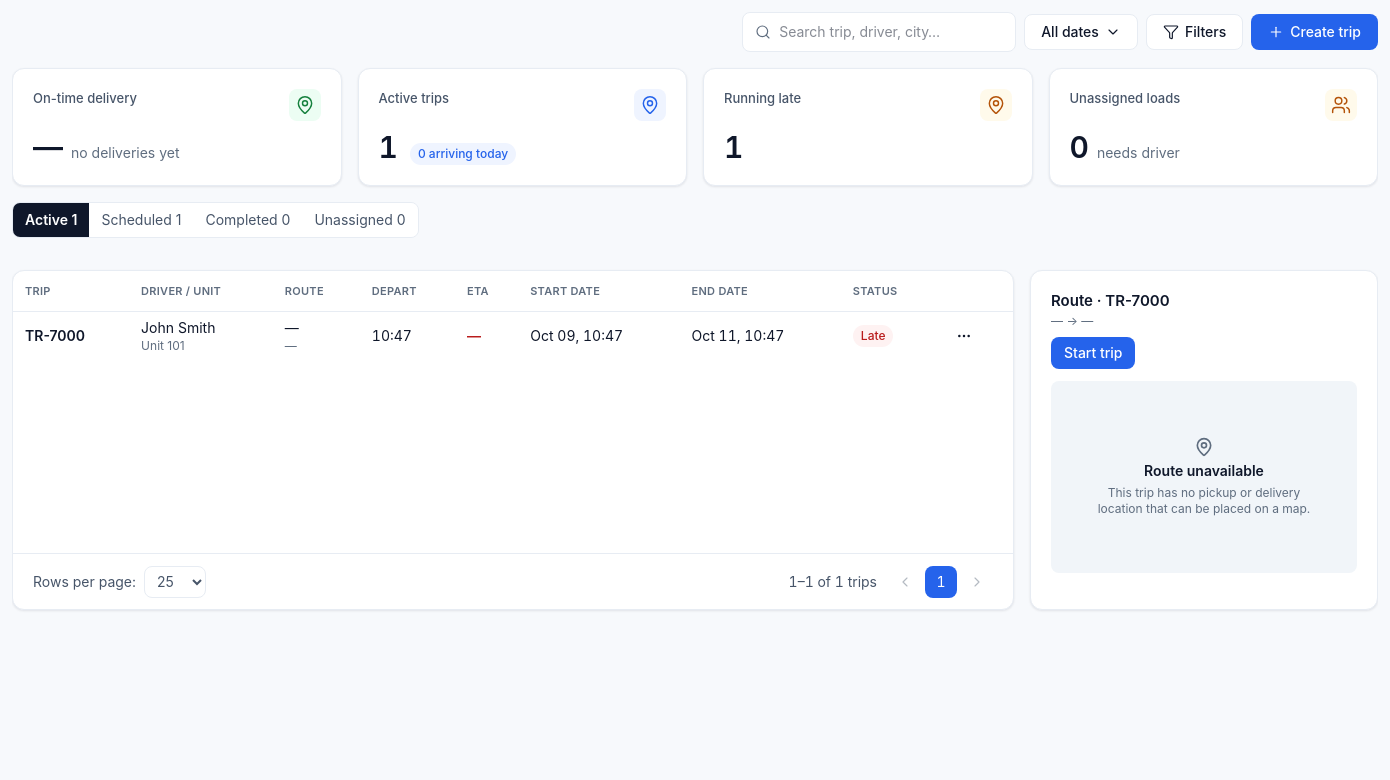
Test: W-11 Dispatch & Trips › LIVE-003: an active trip past its planned end is Late; a planned trip past its start is flagged Overdue (status kept)
The width and height of the screenshot is (1390, 780).
Check: the text "TR-7000" is shown, box [25,326,85,344]
Check: the text "Late" is shown, box [853,324,894,346]
Click the button "Scheduled 1": click(141, 220) [89,203,193,237]
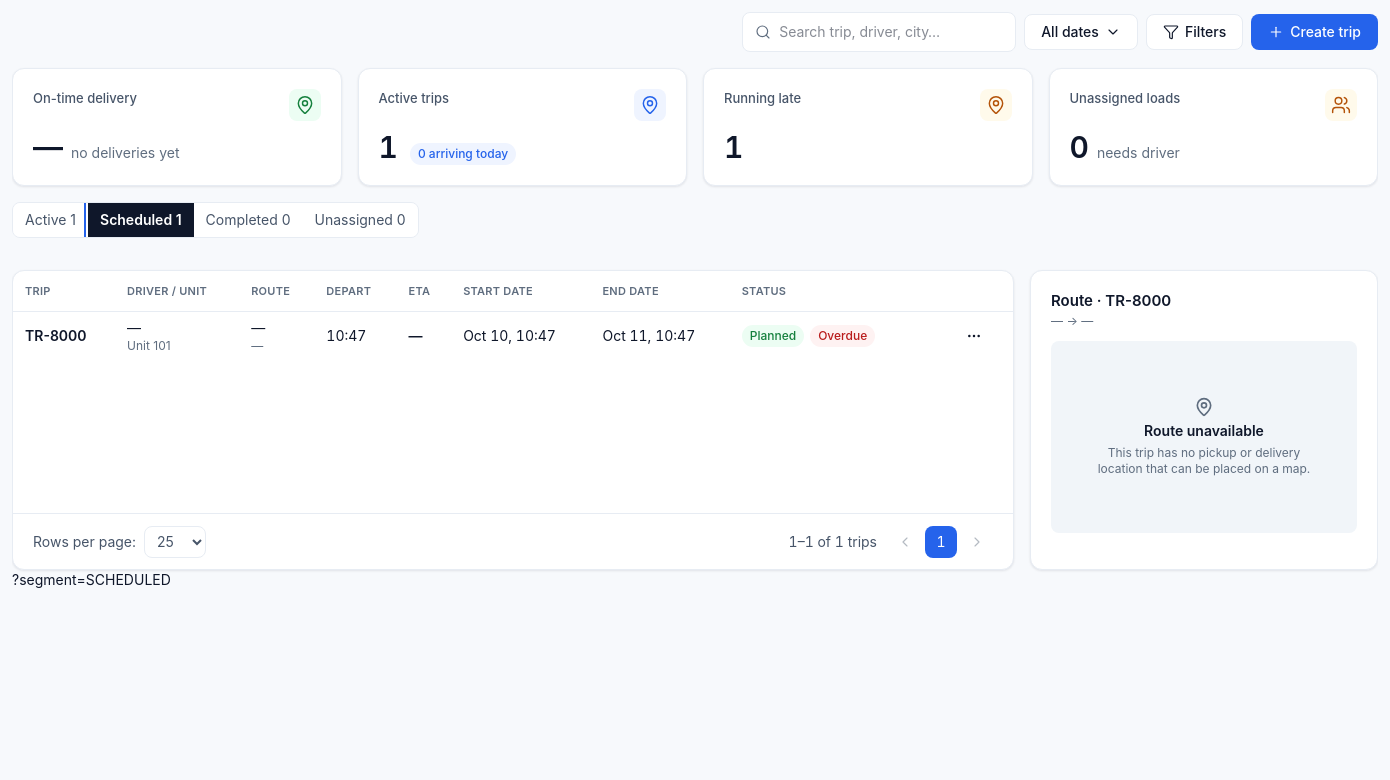
Check: the text "TR-8000" is shown, box [25,326,87,344]
Check: the text "Planned" is shown, box [742,324,804,346]
Check: the text "Overdue" is shown, box [810,324,875,346]
